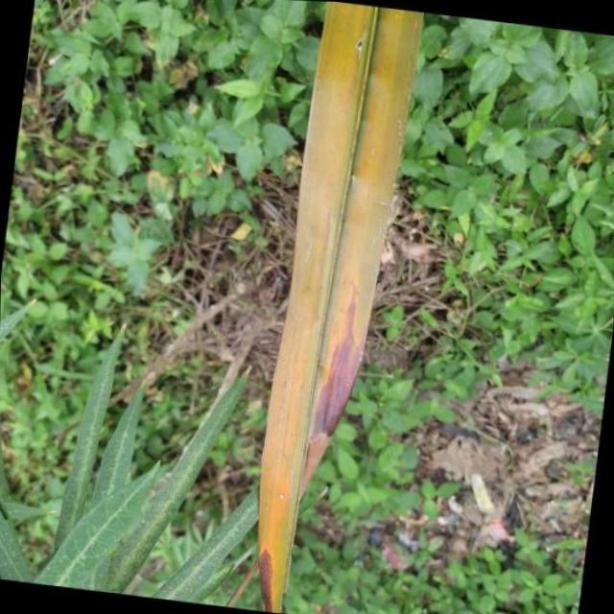Megnesium: (258, 0, 423, 601)
